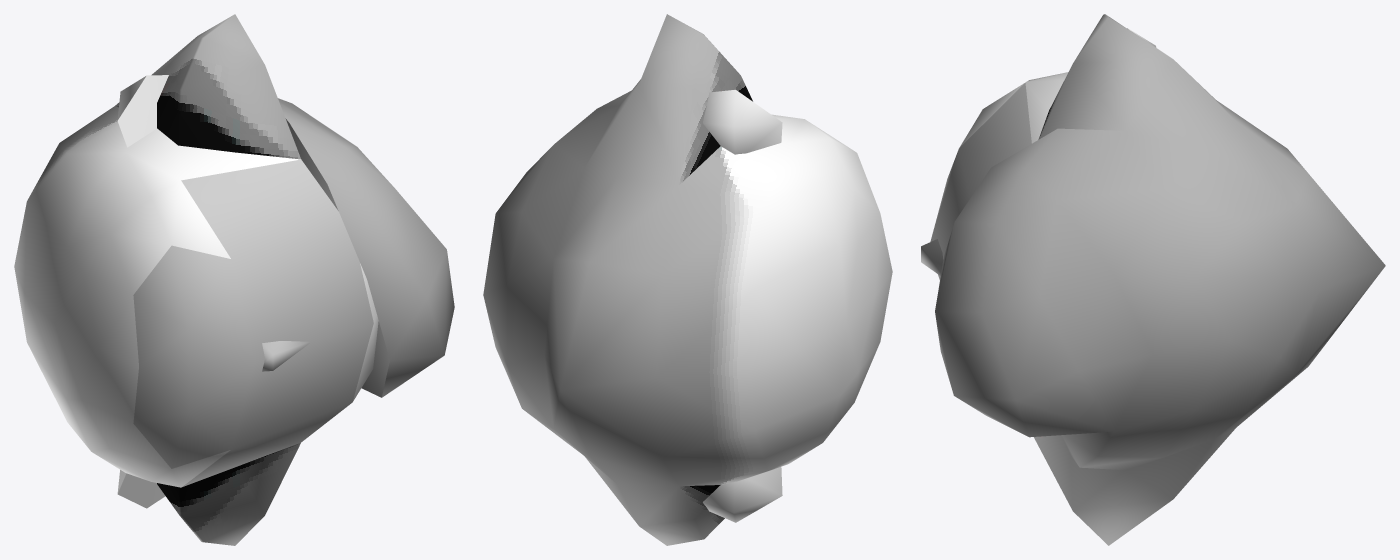
Rendered from girl00a.dae.
The picture shows the model from 3 angles, left to right: view 1: azimuth 30°, elevation 25°; view 2: azimuth 150°, elevation 25°; view 3: azimuth 270°, elevation 25°; orthographic projection.
Parts seen in each view (by area): view 1: vsn_mesh_0_, vsn_mesh_1_, vsn_mesh_2_; view 2: vsn_mesh_0_; view 3: vsn_mesh_0_, vsn_mesh_1_.
Boxes of the visible parts, left/top/right/bottom form: vsn_mesh_0_: left=14, top=14, right=454, bottom=545; vsn_mesh_1_: left=181, top=159, right=373, bottom=487; vsn_mesh_2_: left=133, top=245, right=254, bottom=468; vsn_mesh_0_: left=483, top=14, right=892, bottom=545; vsn_mesh_0_: left=935, top=14, right=1385, bottom=545; vsn_mesh_1_: left=921, top=83, right=1031, bottom=279.
Bounding box in the file's own units: 22.79 × 32.8 × 26.14.
